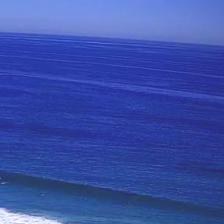surfer: (37, 192, 45, 196), (123, 203, 130, 206), (81, 197, 85, 201), (1, 179, 4, 184)
